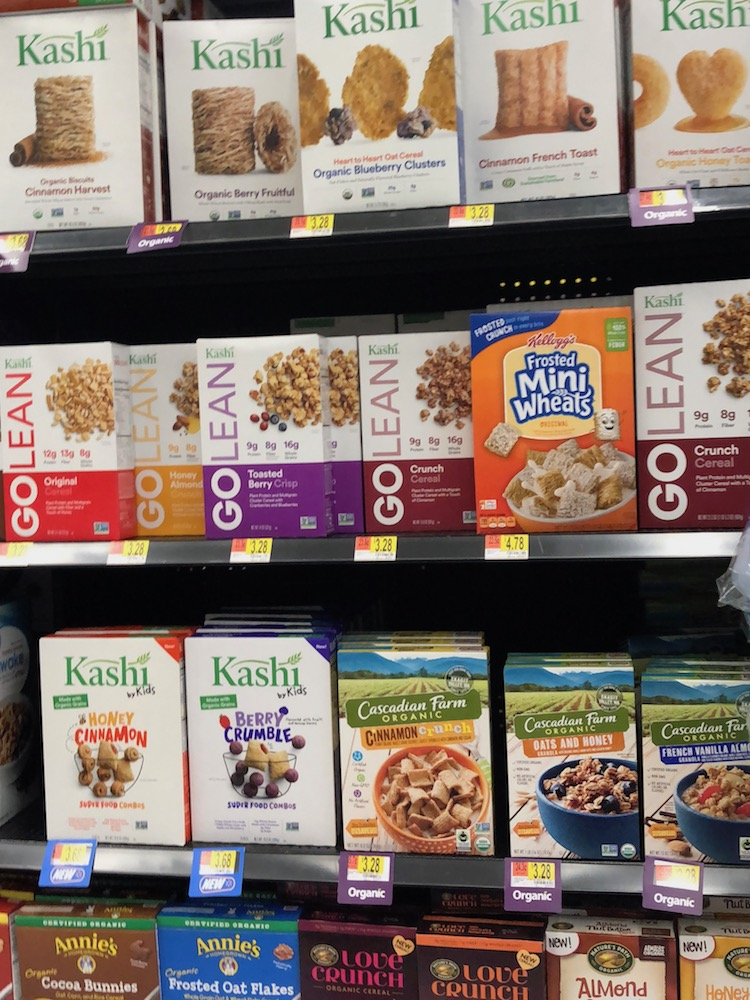Frosted Mini Original -9295869: (466, 321, 639, 536)
